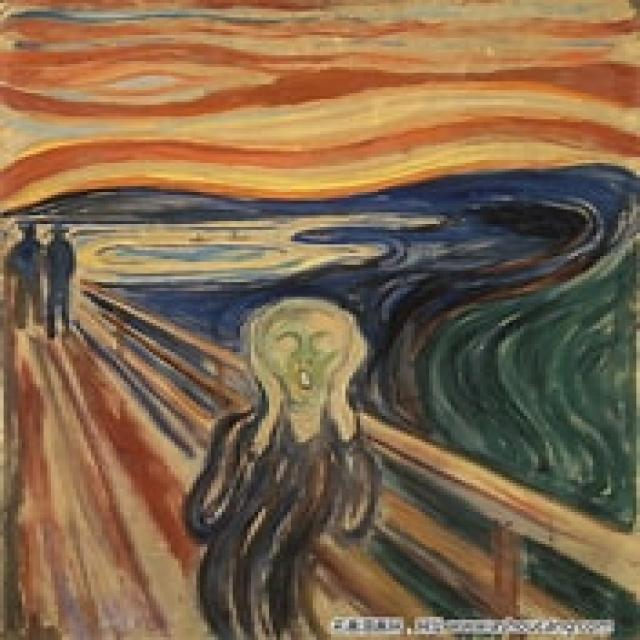skrik: (8, 3, 635, 635)
